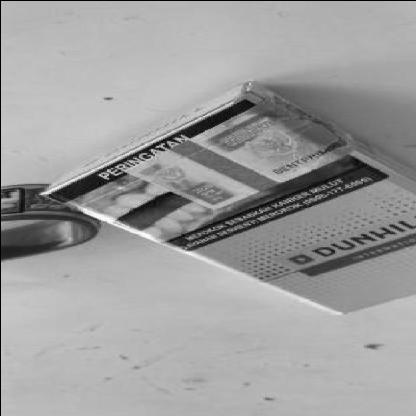objects: (41, 80, 415, 312)
